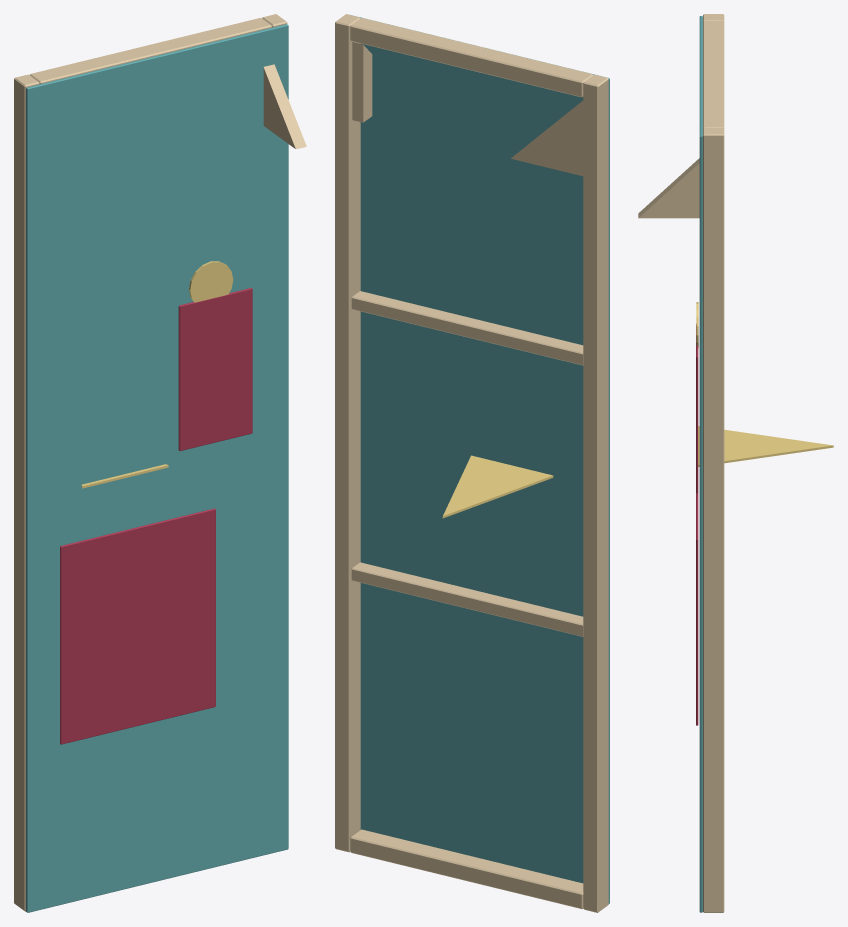
The model's file is theatre-stage-and-backstage-scenery-flat-painted-5c01f286__35887.glb.
The picture shows the model from 3 angles, left to right: view 1: azimuth 30°, elevation 25°; view 2: azimuth 150°, elevation 25°; view 3: azimuth 270°, elevation 25°; orthographic projection. The views are drawn at different scales.
Visible parts, largest first — view 1: scenery-flat-painted_1, scenery-flat-painted_2, scenery-flat-painted_0, scenery-flat-painted_3; view 2: scenery-flat-painted_1, scenery-flat-painted_0, scenery-flat-painted_3; view 3: scenery-flat-painted_0, scenery-flat-painted_1, scenery-flat-painted_3, scenery-flat-painted_2.
Boxes of the visible parts, left/top/right/bottom form: scenery-flat-painted_1: left=26, top=24, right=288, bottom=912; scenery-flat-painted_2: left=60, top=288, right=252, bottom=744; scenery-flat-painted_0: left=14, top=14, right=306, bottom=911; scenery-flat-painted_3: left=81, top=261, right=233, bottom=488; scenery-flat-painted_1: left=351, top=15, right=609, bottom=903; scenery-flat-painted_0: left=335, top=14, right=608, bottom=912; scenery-flat-painted_3: left=442, top=455, right=553, bottom=518; scenery-flat-painted_0: left=638, top=14, right=724, bottom=912; scenery-flat-painted_1: left=699, top=16, right=702, bottom=912; scenery-flat-painted_3: left=696, top=302, right=833, bottom=466; scenery-flat-painted_2: left=696, top=324, right=698, bottom=725.
Bounding box in the file's own units: 1.2 × 3.6 × 0.817.
